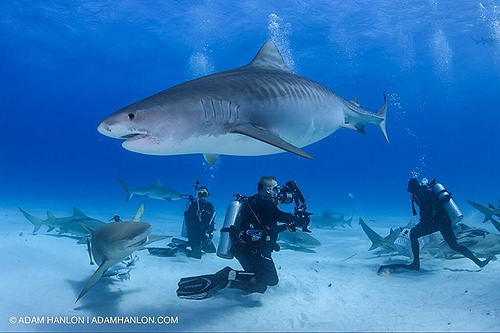shark: (78, 16, 406, 173)
